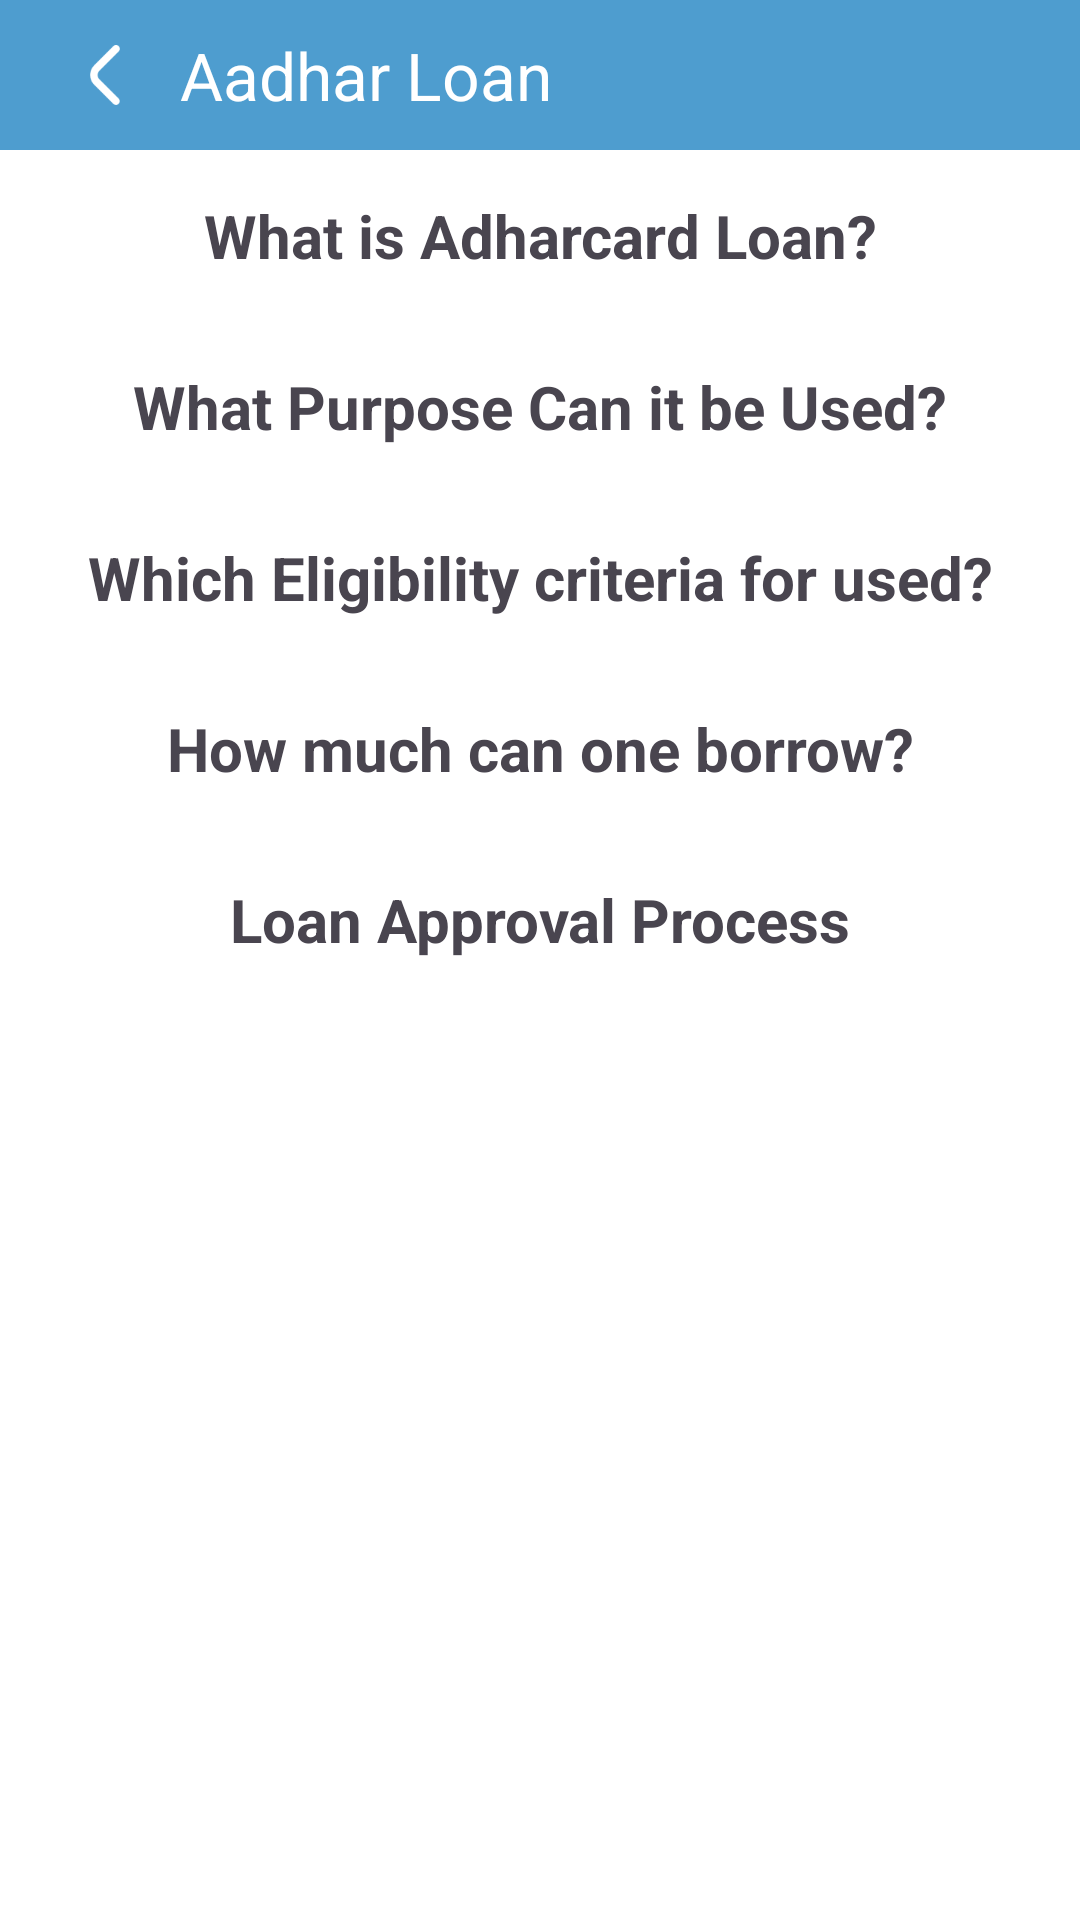

Where icons sit on this 1080px x 1920px app screen, as [x1=x1, y1=y1, x2=x2, y2=y2]:
back: [x1=90, y1=45, x2=120, y2=105]
